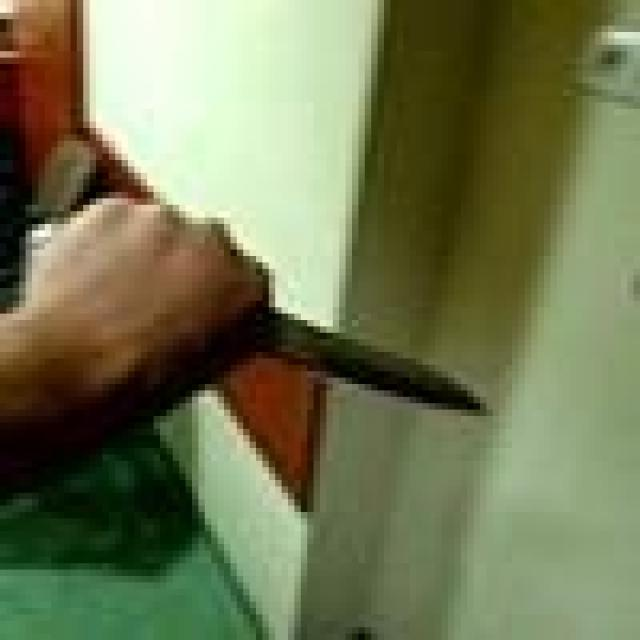senjata_tajam: (249, 311, 492, 422)
